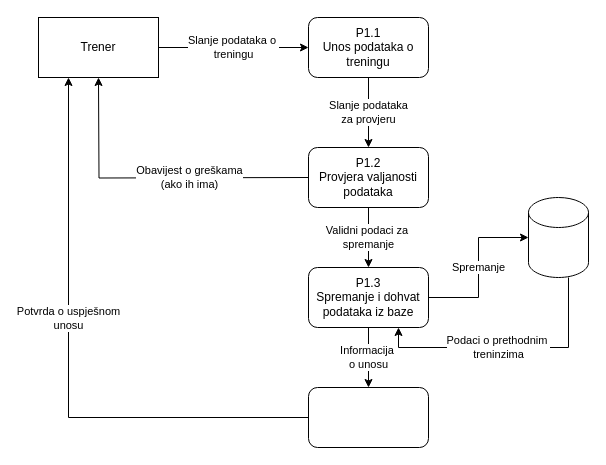
Image size: 606x465. Some labels were removed from this diagram. The box of each missing label's shape, as (x1, y1, x2, y2) in pixels:
Baza podataka: (528, 196, 588, 278)
P1.4 Izvještaj o unosu treninga: (308, 386, 428, 448)
